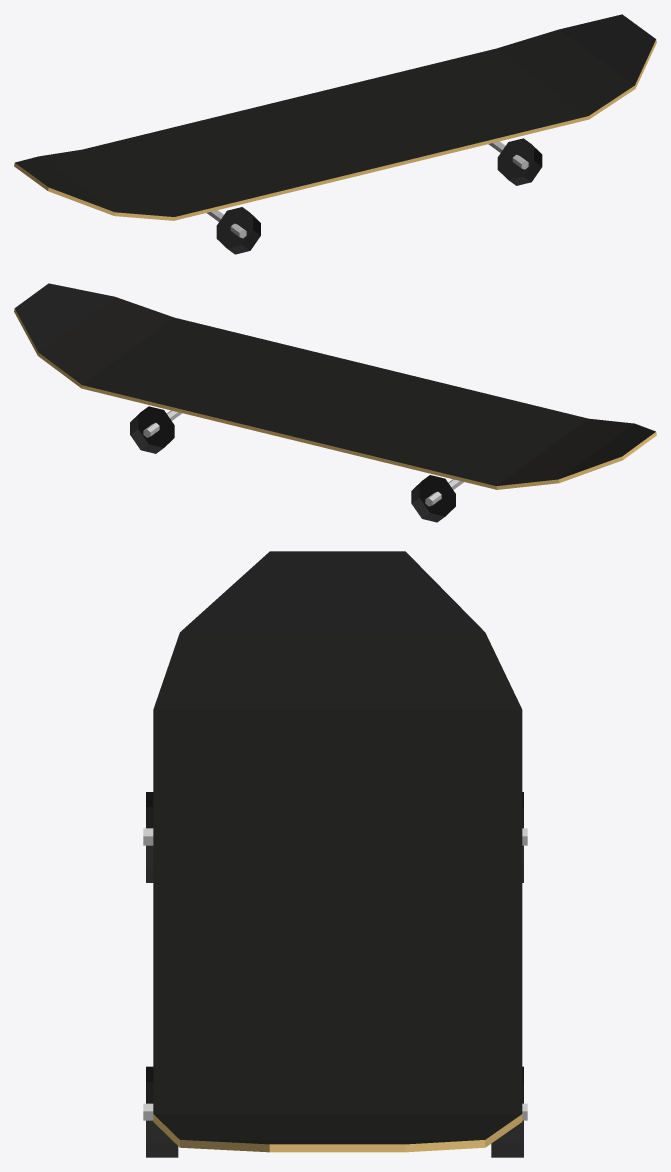
Rendered from low_poly_skateboard.glb.
3 renders of one model, top to bottom at view 1: azimuth 30°, elevation 25°; view 2: azimuth 150°, elevation 25°; view 3: azimuth 270°, elevation 25°, orthographic. The views are drawn at different scales.
Visible parts, largest first — view 1: Plane; view 2: Plane; view 3: Plane.
Boxes of the visible parts, x1,y1,x2,y2 form: Plane: (14,14,656,254); Plane: (14,283,656,522); Plane: (143,551,527,1157).
Size of the model in its own units: 444 by 57.39 by 121.
